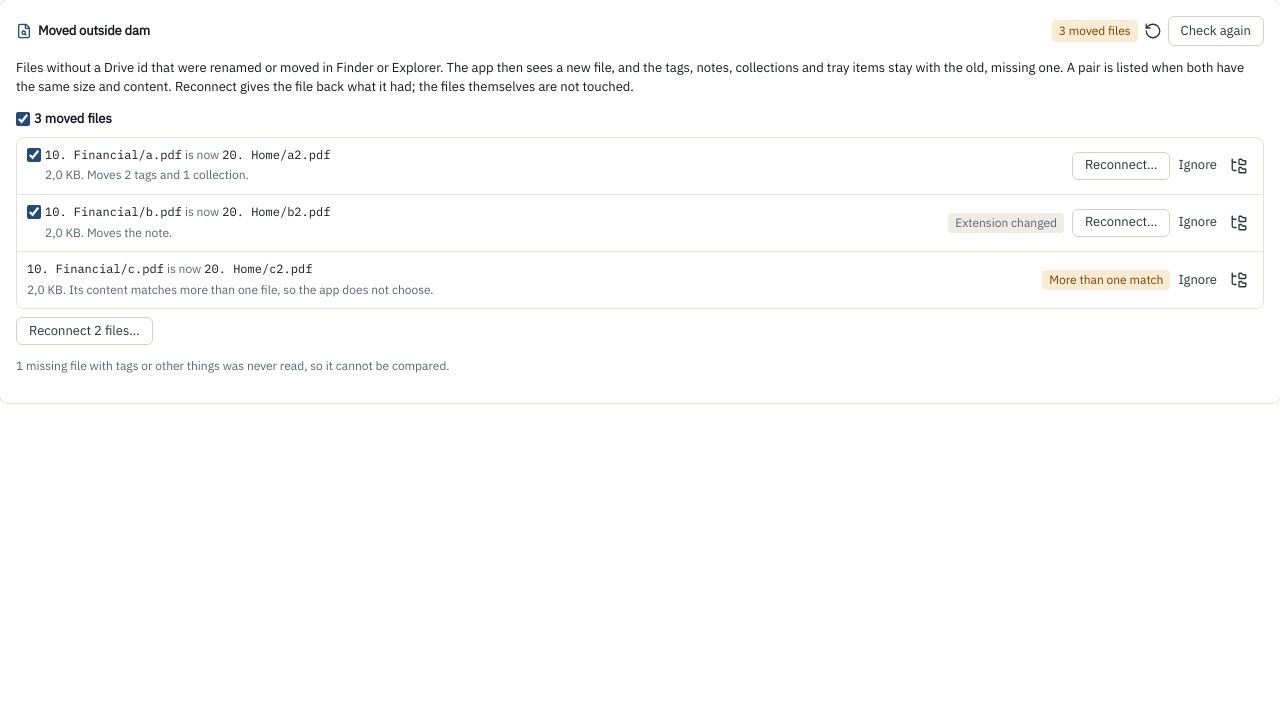
Moved outside dam › previews the chosen pairs, applies them, and Undo puts them back
Check: the list is shown, box [16,136,1264,309]
Click the button "Reconnect 2 files…" at (84, 331), box [16,317,153,345]
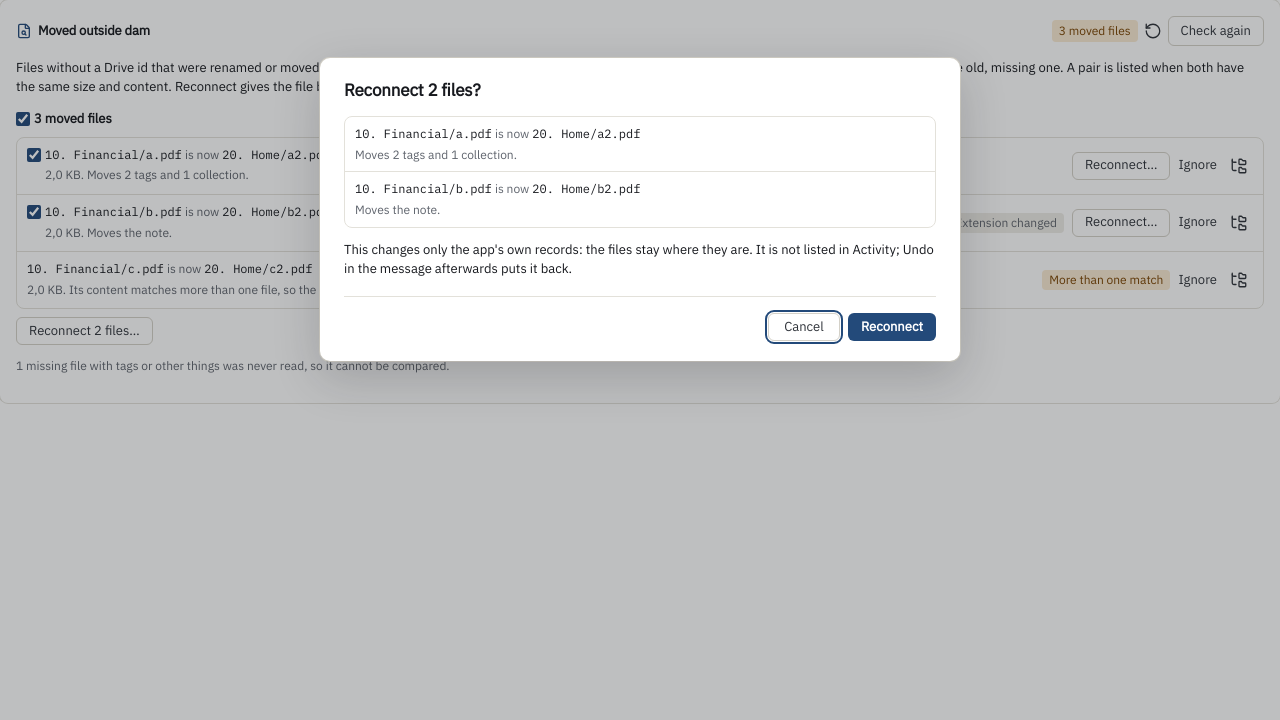
Check: the text "Moves the note." is shown, box [355,202,440,217]
Click the button "Reconnect" at (892, 327), box [848,313,936,341]
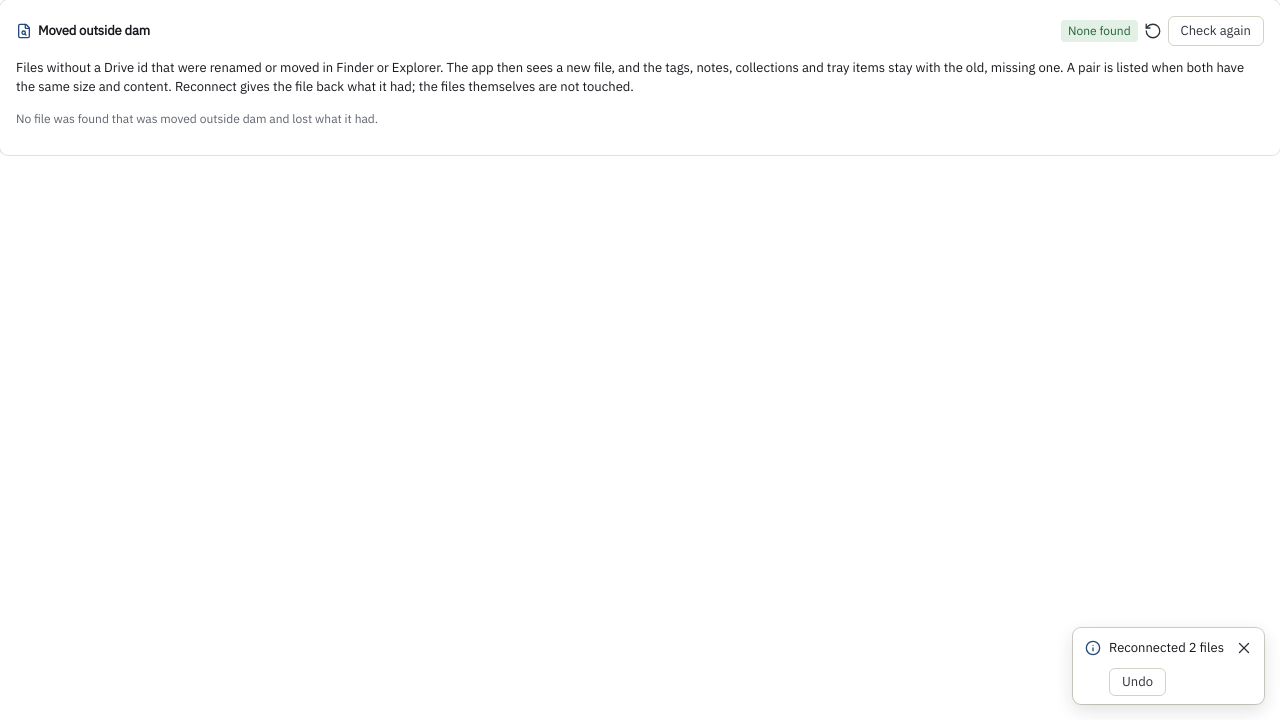
Check: the text "Reconnected 2 files" is shown, box [1109,639,1224,657]
Click the button "Undo" at (1138, 682), box [1109,668,1166,696]
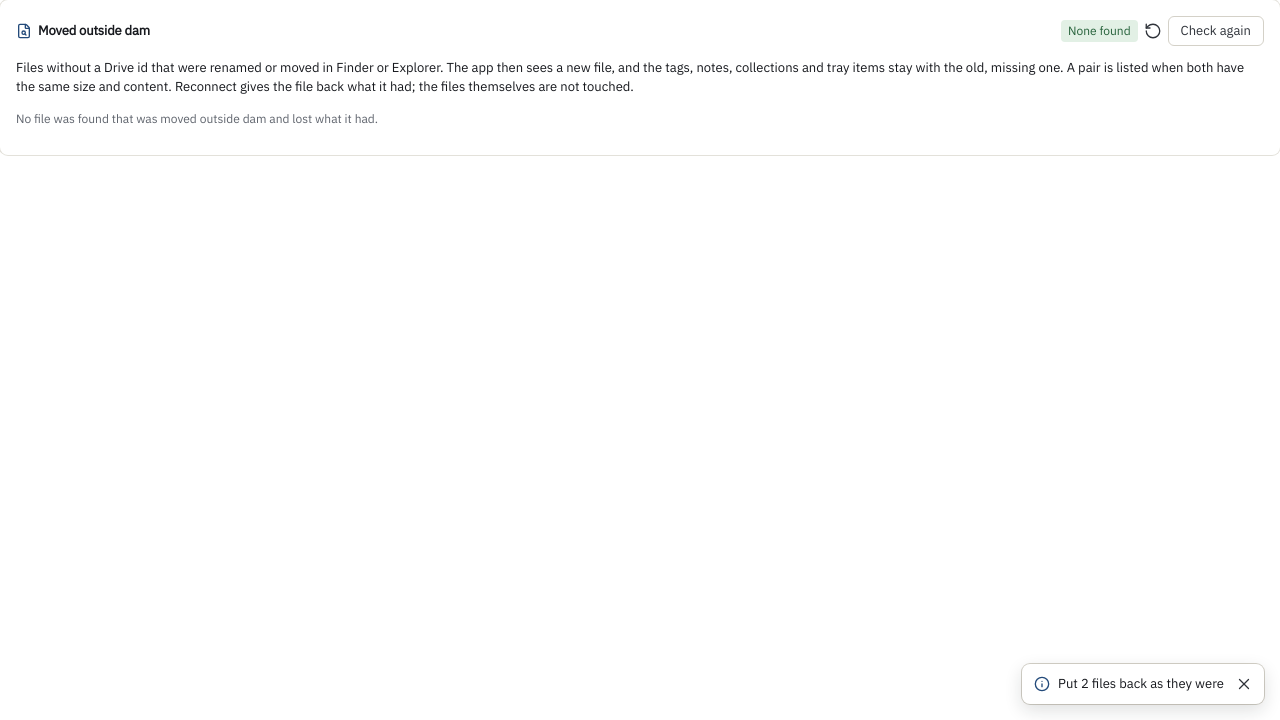
Check: the text "Put 2 files back as they were" is shown, box [1058,675,1224,693]
